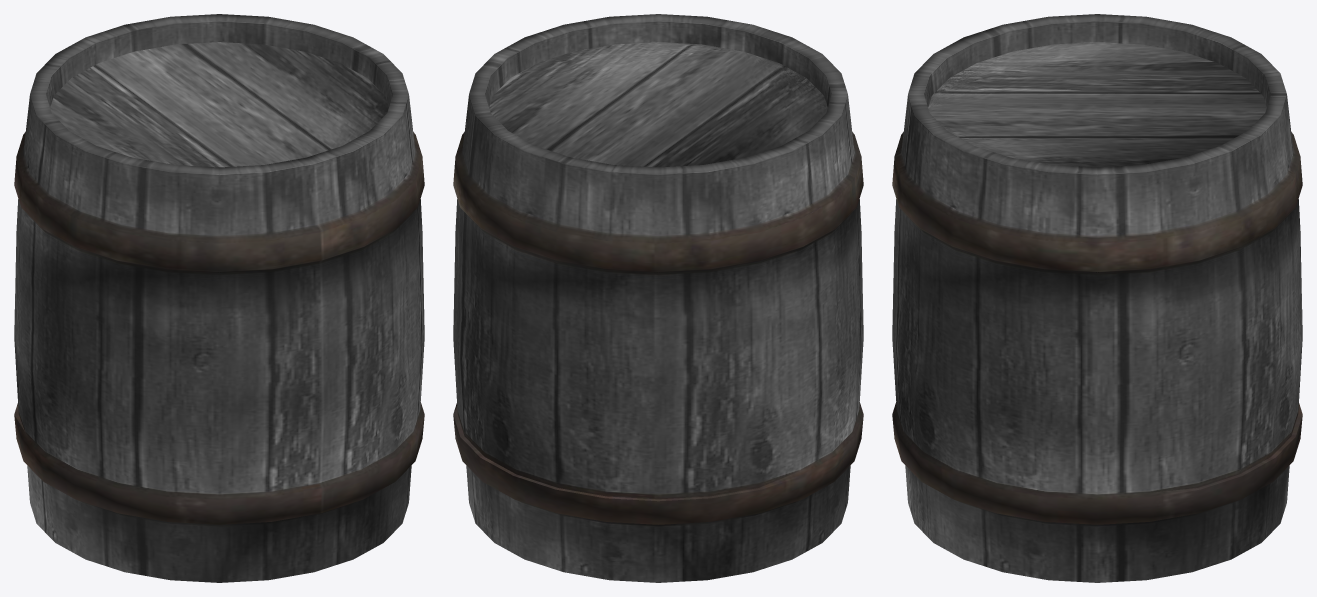
The model's file is barrel_2.obj.
The picture shows the model from 3 angles, left to right: view 1: azimuth 30°, elevation 25°; view 2: azimuth 150°, elevation 25°; view 3: azimuth 270°, elevation 25°; orthographic projection.
Parts seen in each view (by area): view 1: NoName, NoName2; view 2: NoName, NoName2; view 3: NoName, NoName2.
Boxes of the visible parts, box(x1,y1,x2,y2) form: NoName: box(14, 14, 424, 582); NoName2: box(14, 42, 424, 524); NoName: box(453, 14, 863, 582); NoName2: box(453, 42, 863, 524); NoName: box(892, 14, 1302, 582); NoName2: box(892, 42, 1302, 524).
Size of the model in its own units: 25.86 by 28.42 by 25.86.
1 material, 1 textured.
